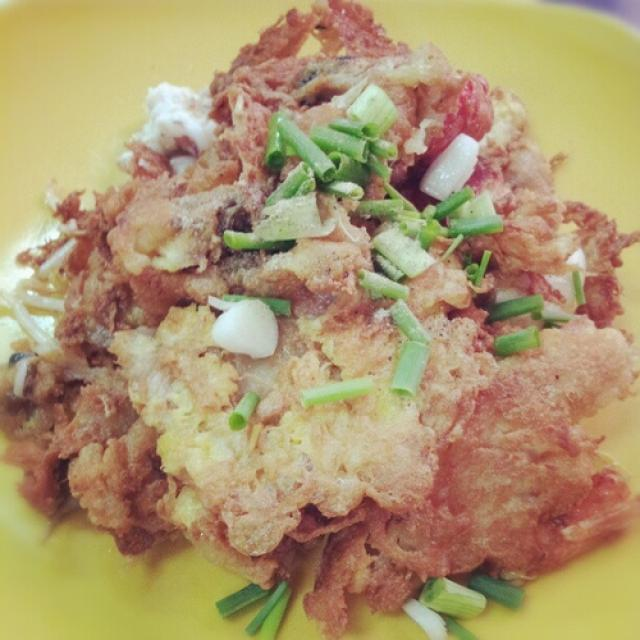炸货点心: (5, 2, 631, 634)
蛋糕甜品: (5, 2, 631, 634)
